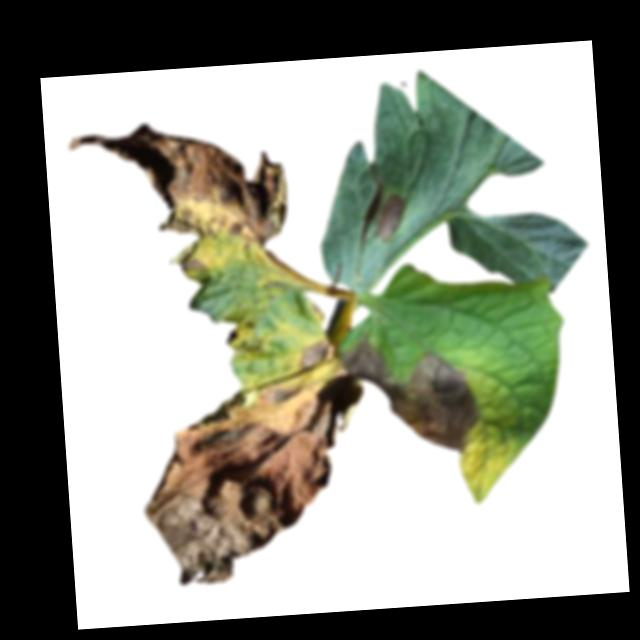Early_blight: (135, 382, 341, 587), (66, 113, 297, 281), (337, 332, 483, 461), (373, 193, 405, 242), (297, 338, 331, 370), (225, 329, 240, 345)
